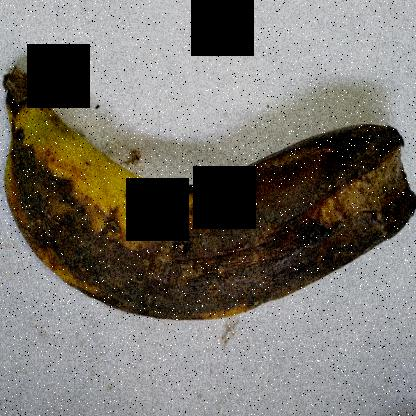rotten: (0, 87, 411, 348)
